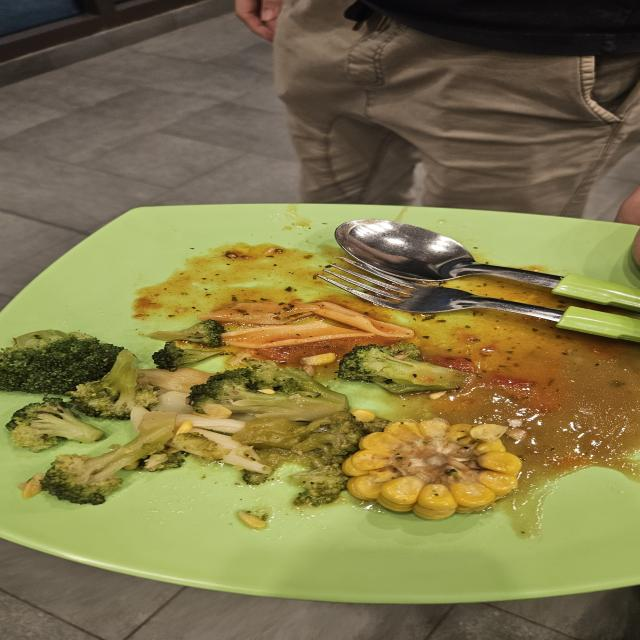Green veg: (0, 318, 379, 506), (345, 343, 462, 391)
Non green veg: (342, 419, 521, 519)
